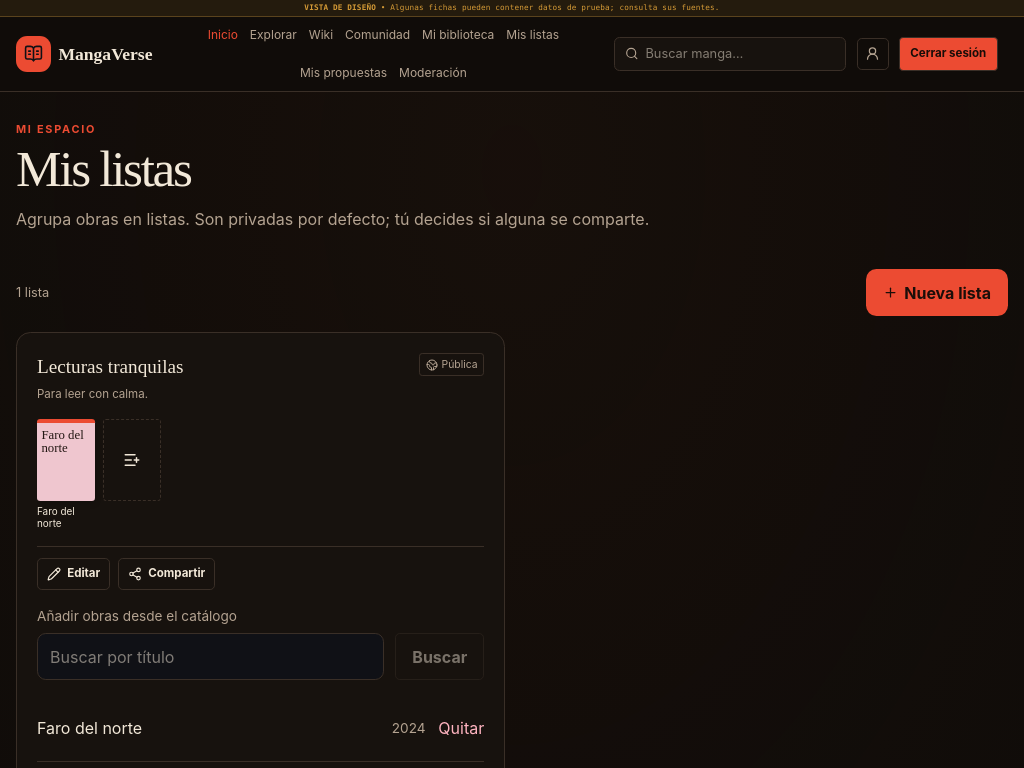
Test: MangaListsPage › shows real list cards with editing and sharing actions for signed-in users
Expected: the heading "Lecturas tranquilas" is shown, [37, 353, 184, 382]
Click the button "Editar": x=74, y=574 [37, 558, 110, 590]
(page scrolled)
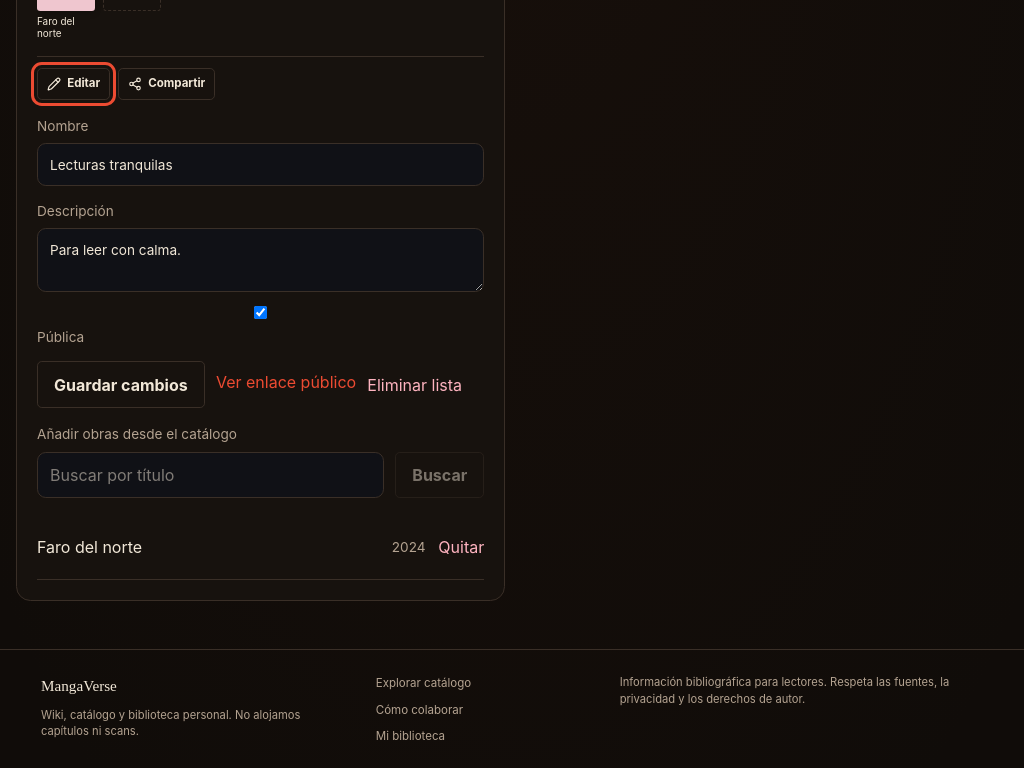
Now the field showing "Lecturas tranquilas" is shown, box [37, 143, 484, 186]
Now the button "Guardar cambios" is shown, box [37, 361, 205, 408]
